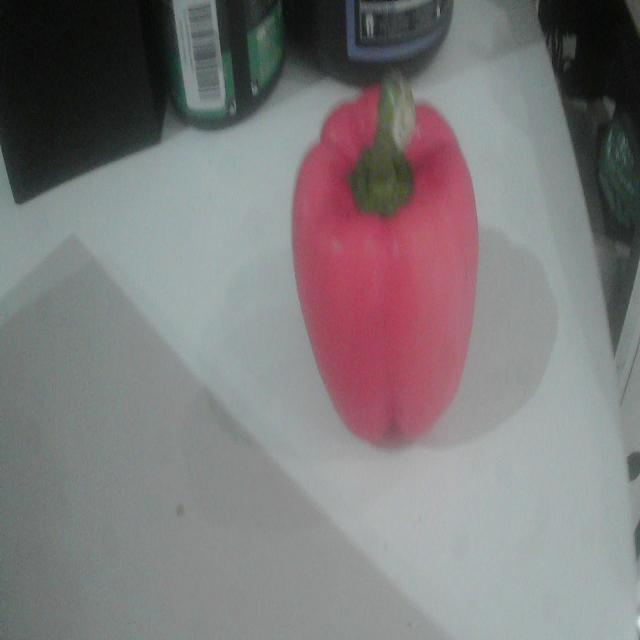Bell Pepper: (292, 80, 478, 444)
